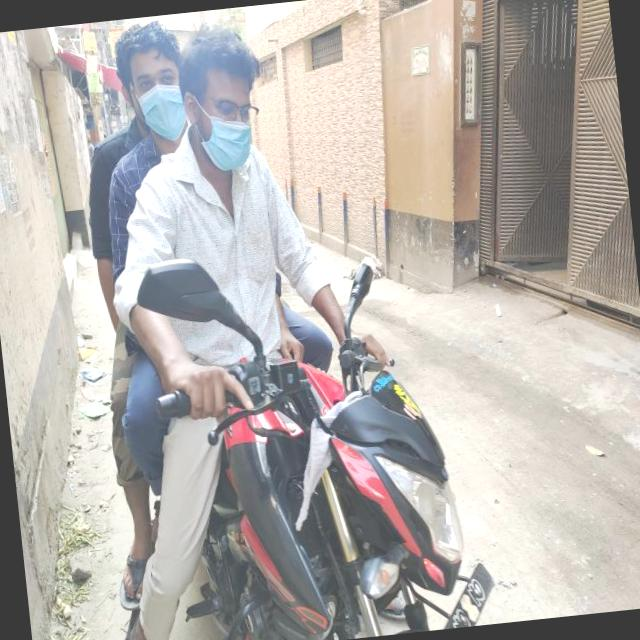motorcycle: (108, 317, 479, 640)
person: (172, 22, 342, 432), (126, 22, 268, 434), (63, 23, 192, 454)
rider_region: (54, 0, 496, 640)
